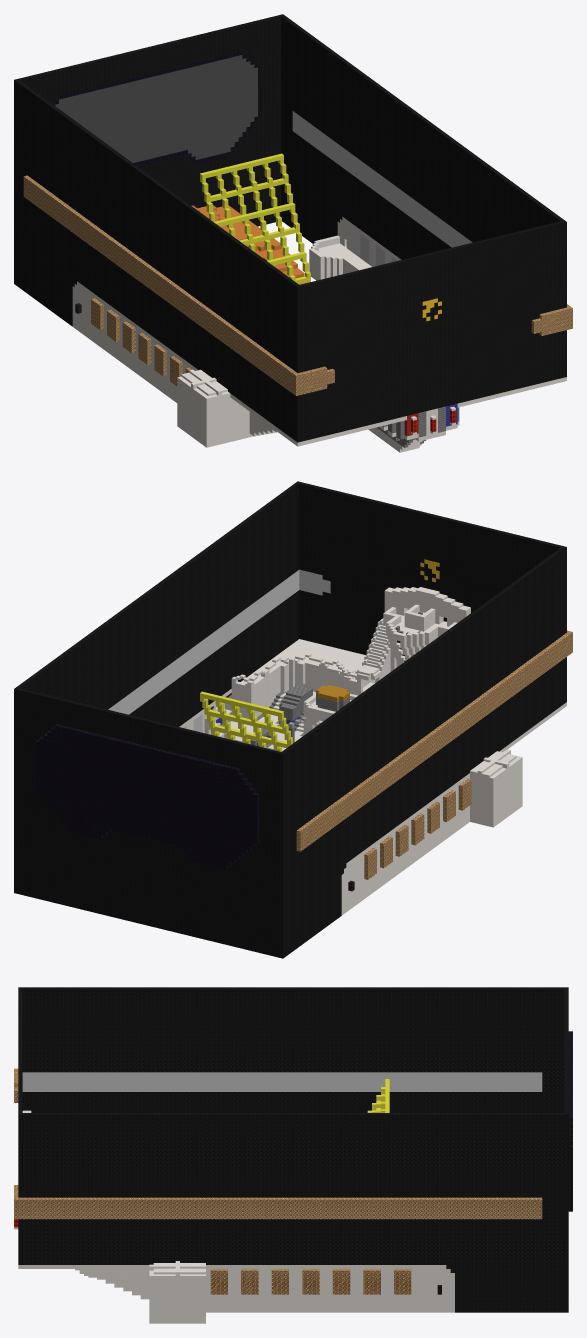
The model's file is minecraft.obj.
The picture shows the model from 3 angles, top to bottom: view 1: azimuth 30°, elevation 25°; view 2: azimuth 150°, elevation 25°; view 3: azimuth 270°, elevation 25°; orthographic projection. The views are drawn at different scales.
Size of the model in its own units: 81 by 52 by 128.
